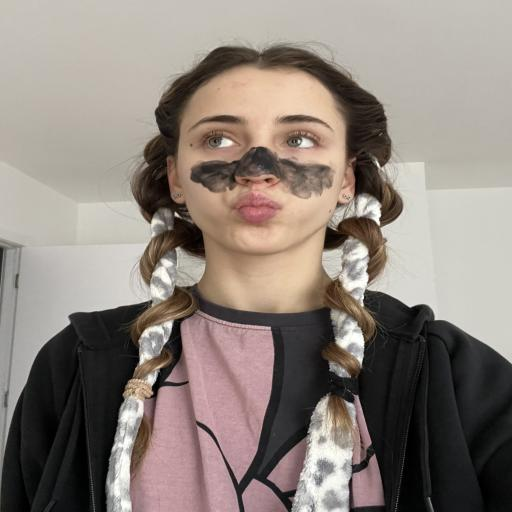masa: (178, 63, 346, 252)
